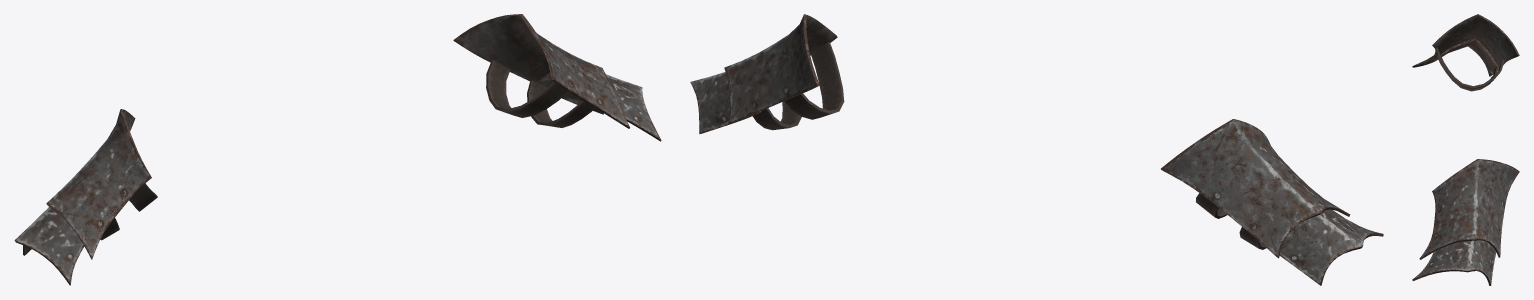
The model's file is sk_gb_uruk_bracer_heavy_c.fbx.
3 views of the same model, side by side, from view 1: azimuth 30°, elevation 25°; view 2: azimuth 150°, elevation 25°; view 3: azimuth 270°, elevation 25° (orthographic). The views are drawn at different scales.
Parts seen in each view (by area): view 1: sk_gb_uruk_bracer_heavy_c; view 2: sk_gb_uruk_bracer_heavy_c; view 3: sk_gb_uruk_bracer_heavy_c.
Boxes of the visible parts, box(x1,y1,x2,y2) form: sk_gb_uruk_bracer_heavy_c: box(14, 14, 661, 285); sk_gb_uruk_bracer_heavy_c: box(690, 14, 1383, 285); sk_gb_uruk_bracer_heavy_c: box(1412, 14, 1519, 285).
Size of the model in its own units: 1.41 by 0.2832 by 0.2746.
Materials: 1 (1 with a texture image).
